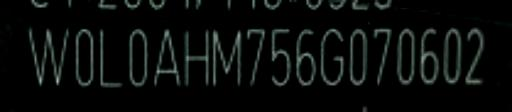letter: (24, 21, 70, 91), (211, 21, 247, 93), (178, 27, 212, 91), (316, 21, 346, 93), (267, 21, 293, 93), (96, 26, 126, 88), (152, 24, 180, 90), (294, 24, 318, 94), (125, 24, 151, 88), (416, 22, 440, 88), (441, 22, 465, 88), (245, 24, 267, 94), (345, 27, 369, 91), (394, 27, 418, 91), (372, 24, 394, 90), (71, 26, 95, 86), (463, 24, 485, 88)
